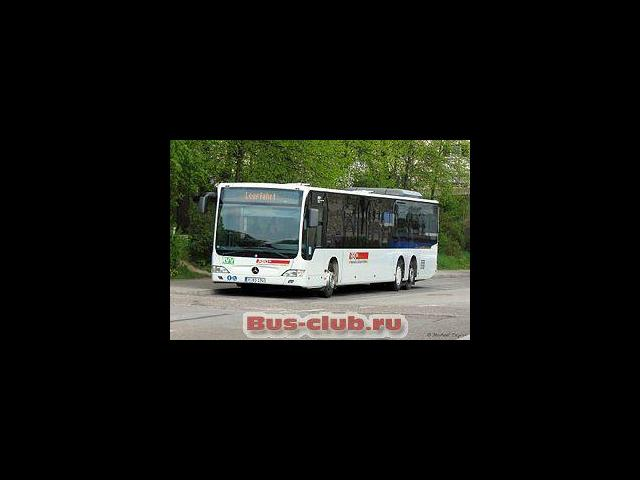bus: (196, 180, 442, 299)
